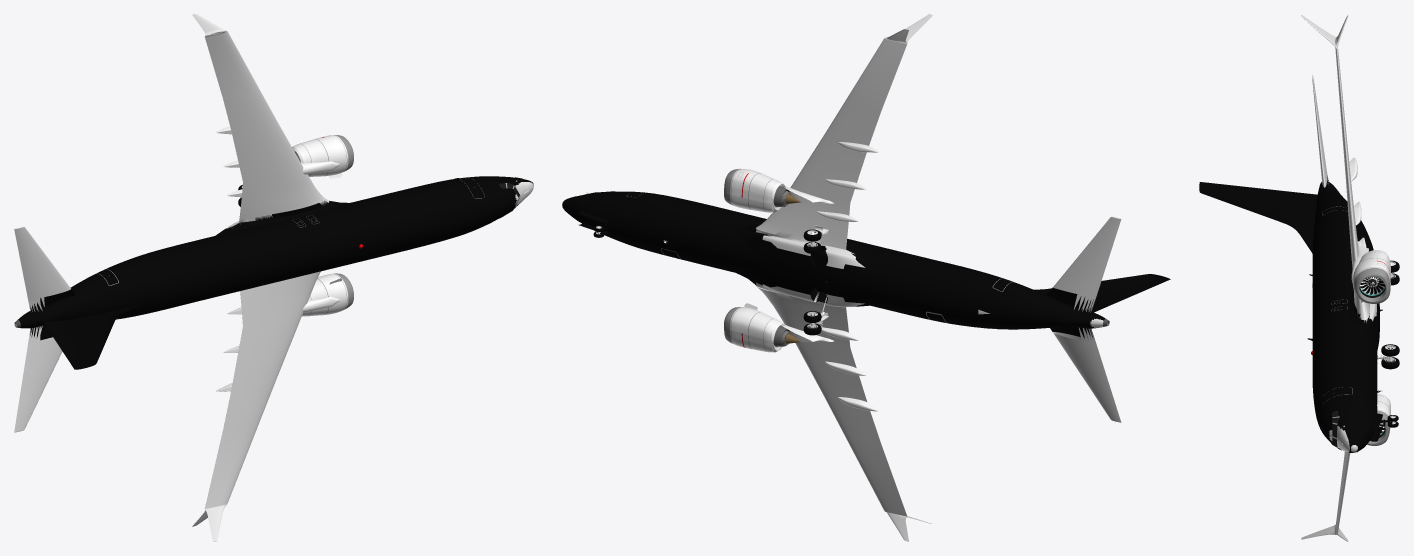
File: b737-max8.glb
3 views of the same model, side by side, from view 1: azimuth 30°, elevation 25°; view 2: azimuth 150°, elevation 25°; view 3: azimuth 270°, elevation 25° (orthographic). The views are drawn at different scales.
Visible parts, largest first — view 1: Object_34, Object_50, Object_65, Object_48, Object_89, Object_59; view 2: Object_50, Object_34, Object_65, Object_48, Object_89; view 3: Object_34, Object_48, Object_50, Object_59, Object_65, gearR, gearN.
Boxes of the visible parts, bbox=[...] form: Object_34: bbox=[18, 176, 533, 328]; Object_50: bbox=[205, 30, 348, 541]; Object_65: bbox=[14, 226, 75, 432]; Object_48: bbox=[43, 300, 151, 369]; Object_89: bbox=[300, 161, 339, 312]; Object_59: bbox=[131, 185, 460, 266]; Object_50: bbox=[736, 14, 932, 523]; Object_34: bbox=[562, 191, 1105, 329]; Object_65: bbox=[1046, 216, 1121, 422]; Object_48: bbox=[1034, 274, 1170, 312]; Object_89: bbox=[782, 186, 833, 342]; Object_34: bbox=[1312, 182, 1377, 452]; Object_48: bbox=[1199, 182, 1317, 253]; Object_50: bbox=[1301, 15, 1379, 539]; Object_59: bbox=[1334, 218, 1340, 383]; Object_65: bbox=[1312, 75, 1329, 287]; gearR: bbox=[1377, 344, 1399, 412]; gearN: bbox=[1370, 390, 1398, 441].
Size of the model in its own units: 39.52 by 35.9 by 12.38.
Materials: 57 (1 with a texture image).
